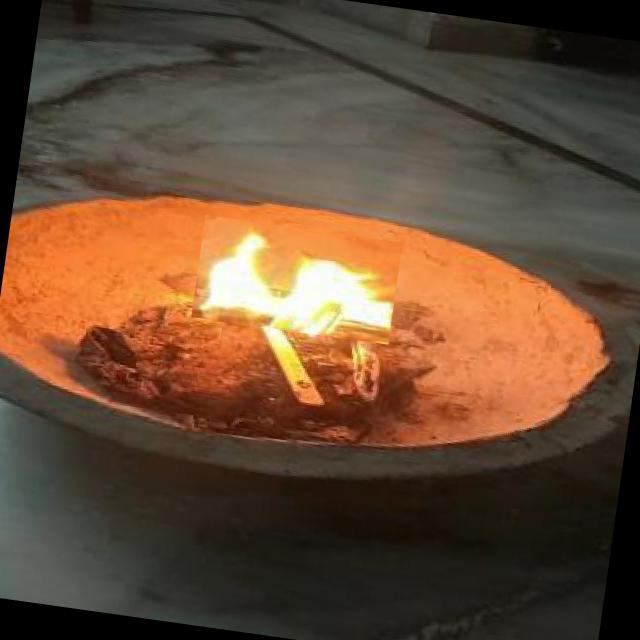fire: (192, 215, 402, 345)
